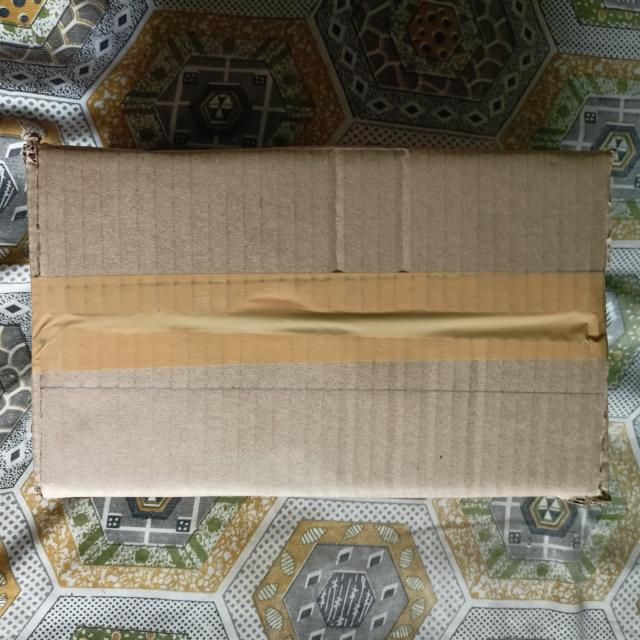box: (33, 156, 607, 495)
